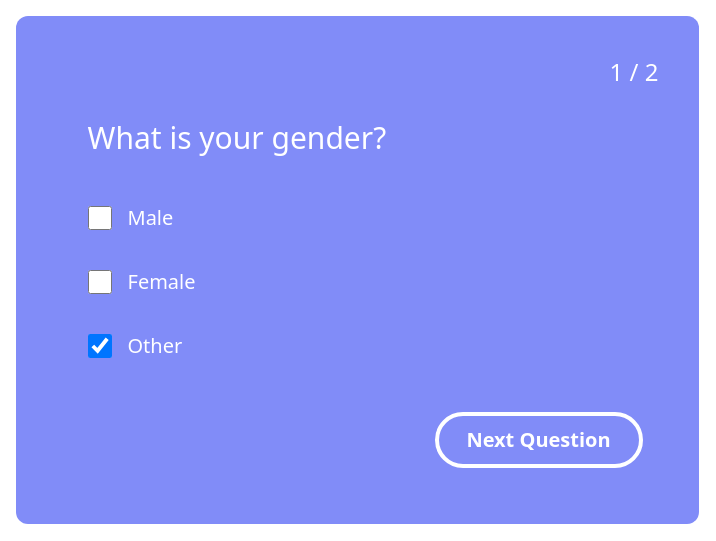
Test: Form UI E2E Test › after button clicked header text should change
The image size is (716, 541).
Click the button "Next Question".
click(539, 440)  # box [435,412,643,468]
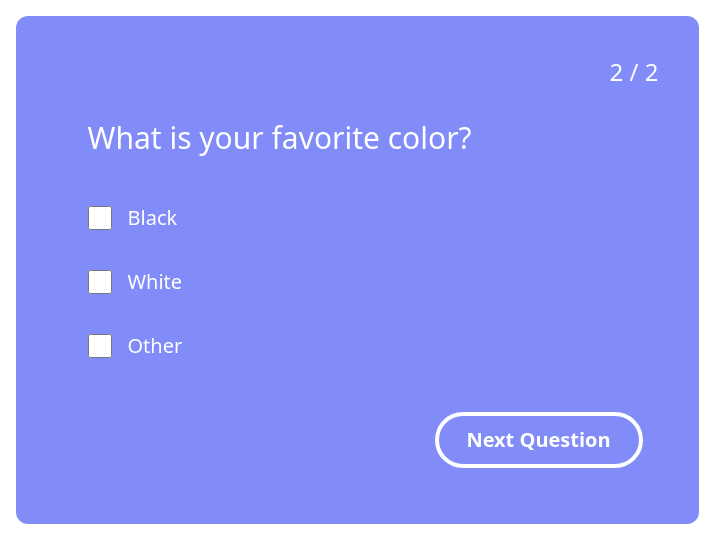
Check: the text "2 / 2" is shown, box [610,56,658,88]
